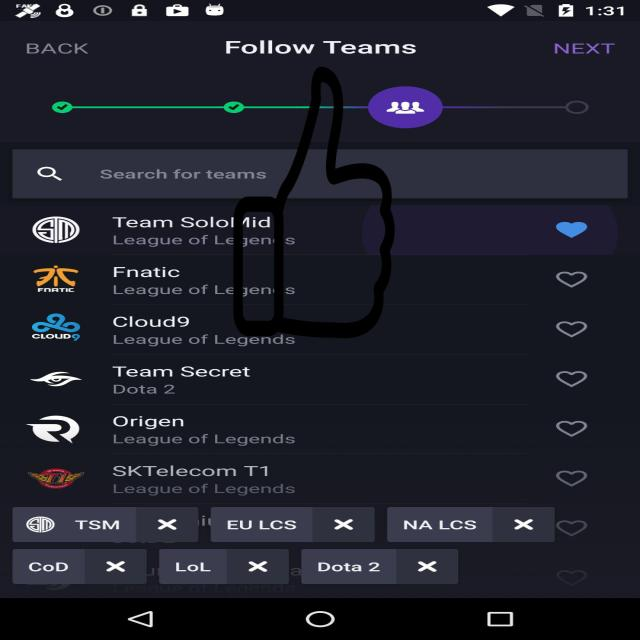privacy zuckering: (231, 67, 397, 338)
